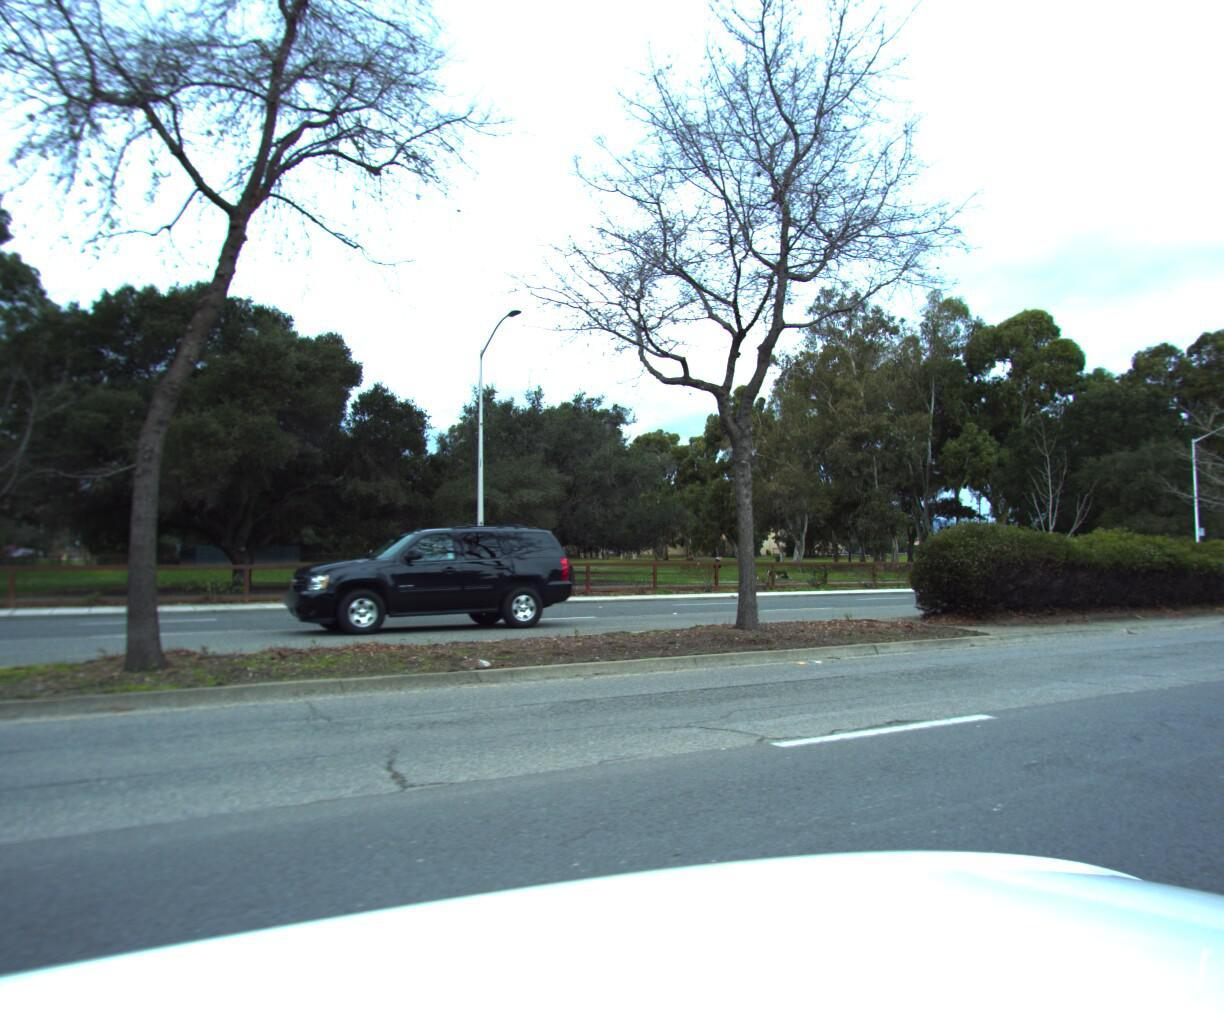car: (274, 514, 578, 638)
